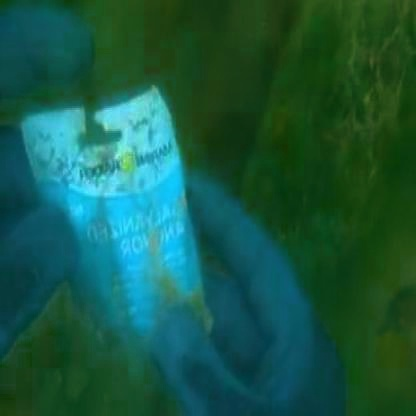plastic: (32, 103, 212, 354)
